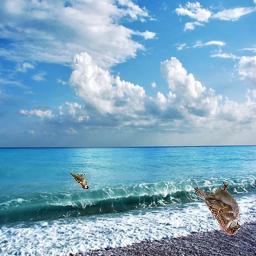Sparrow: (194, 183, 241, 236), (71, 173, 90, 190)
